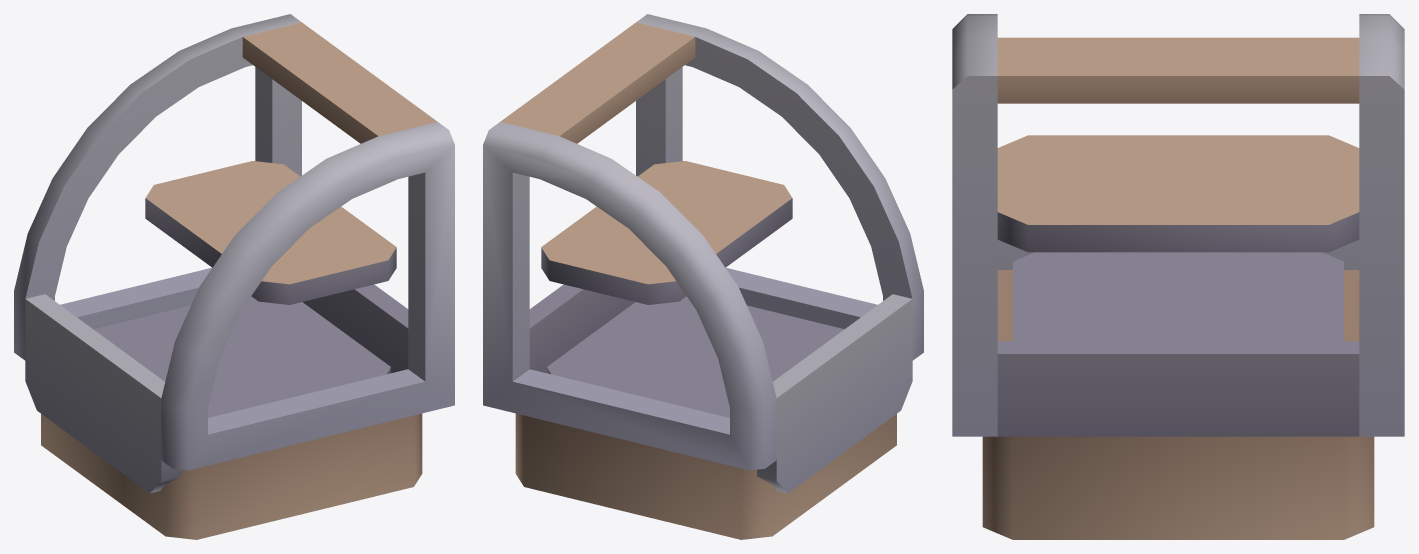
File: counter-display-round-narrow.glb
The picture shows the model from 3 angles, left to right: view 1: azimuth 30°, elevation 25°; view 2: azimuth 150°, elevation 25°; view 3: azimuth 270°, elevation 25°; orthographic projection. The views are drawn at different scales.
Visible parts, largest first — view 1: counter-display-round-narrow; view 2: counter-display-round-narrow; view 3: counter-display-round-narrow.
Boxes of the visible parts, box(x1,y1,x2,y2) form: counter-display-round-narrow: box(14, 14, 454, 539); counter-display-round-narrow: box(483, 14, 923, 539); counter-display-round-narrow: box(952, 14, 1404, 539).
Size of the model in its own units: 0.7 by 0.856 by 0.746.
